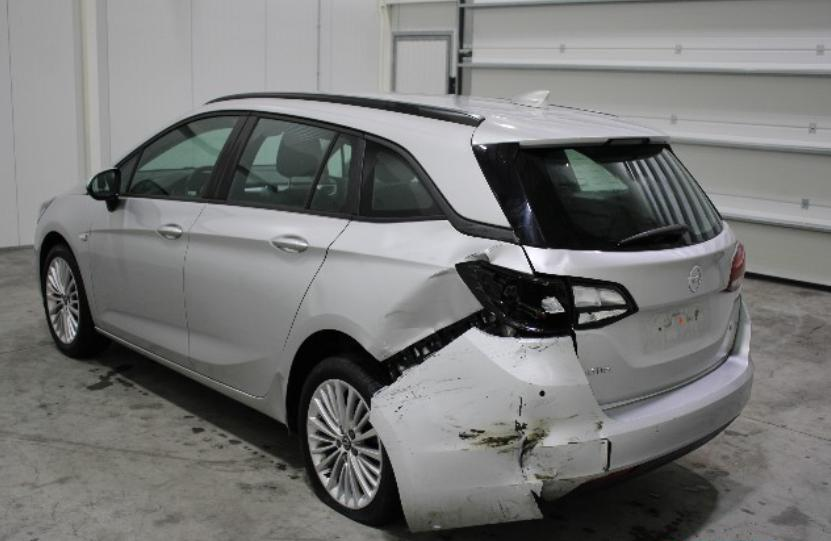Back-bumper: (371, 293, 752, 531)
Back-door: (184, 111, 365, 396)
Back-wheel: (299, 360, 400, 524)
Back-window: (225, 118, 444, 218)
Back-windshield: (474, 142, 720, 251)
Fender: (33, 194, 103, 328)
Front-door: (89, 113, 248, 370)
Front-wheel: (41, 247, 100, 356)
Front-window: (117, 114, 240, 199)
Headlight: (39, 199, 54, 220)
Hood: (63, 183, 87, 196)
Mirror: (88, 168, 120, 209)
Quarter-panel: (262, 222, 533, 406)
Rocker-panel: (96, 326, 286, 427)
Roof: (175, 91, 614, 144)
Tail-light: (730, 245, 746, 286)
Trunk: (523, 229, 740, 412), (472, 114, 673, 145)
